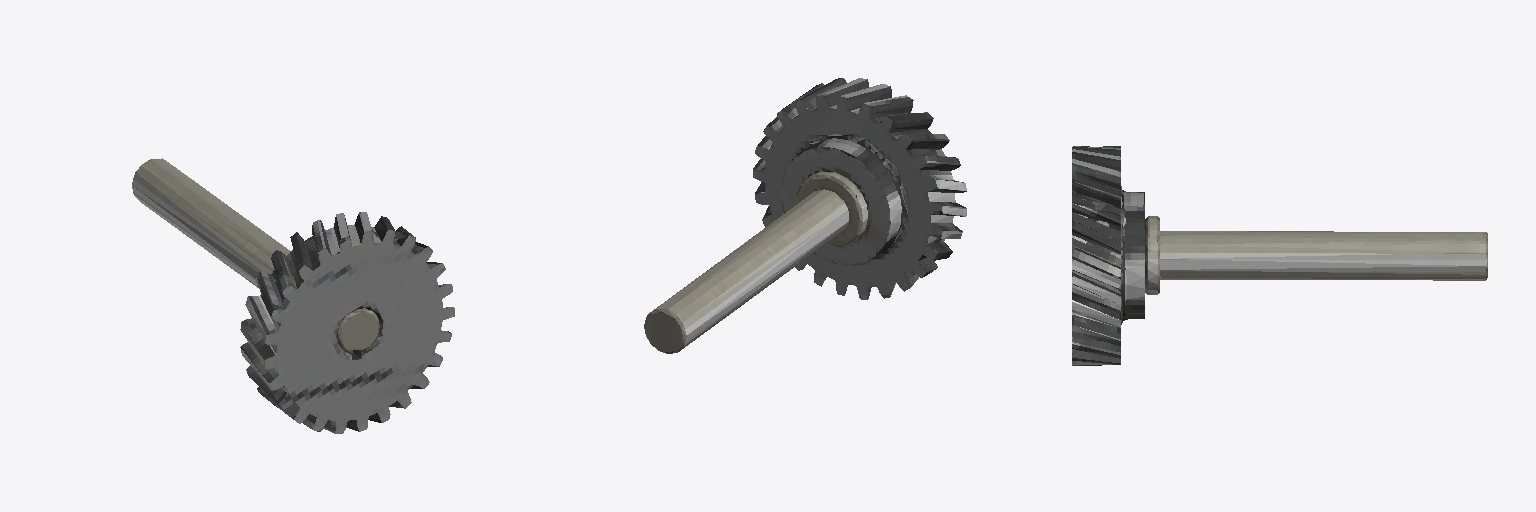
3 views of the same model, side by side, from view 1: azimuth 30°, elevation 25°; view 2: azimuth 150°, elevation 25°; view 3: azimuth 270°, elevation 25° (orthographic).
Visible parts, largest first — view 1: Piñon.023_Mesh.1325; view 2: Piñon.023_Mesh.1325; view 3: Piñon.023_Mesh.1325.
Part boxes in pixels (left/top/right/bottom): Piñon.023_Mesh.1325: left=132, top=158, right=454, bottom=433; Piñon.023_Mesh.1325: left=644, top=78, right=966, bottom=353; Piñon.023_Mesh.1325: left=1072, top=146, right=1487, bottom=365.
Size of the model in its own units: 0.0587 by 0.0587 by 0.1111.
2 materials, 1 textured.